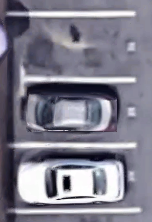Occupied: (7, 146, 141, 211), (8, 77, 134, 145)
Vacant: (8, 12, 134, 80)
